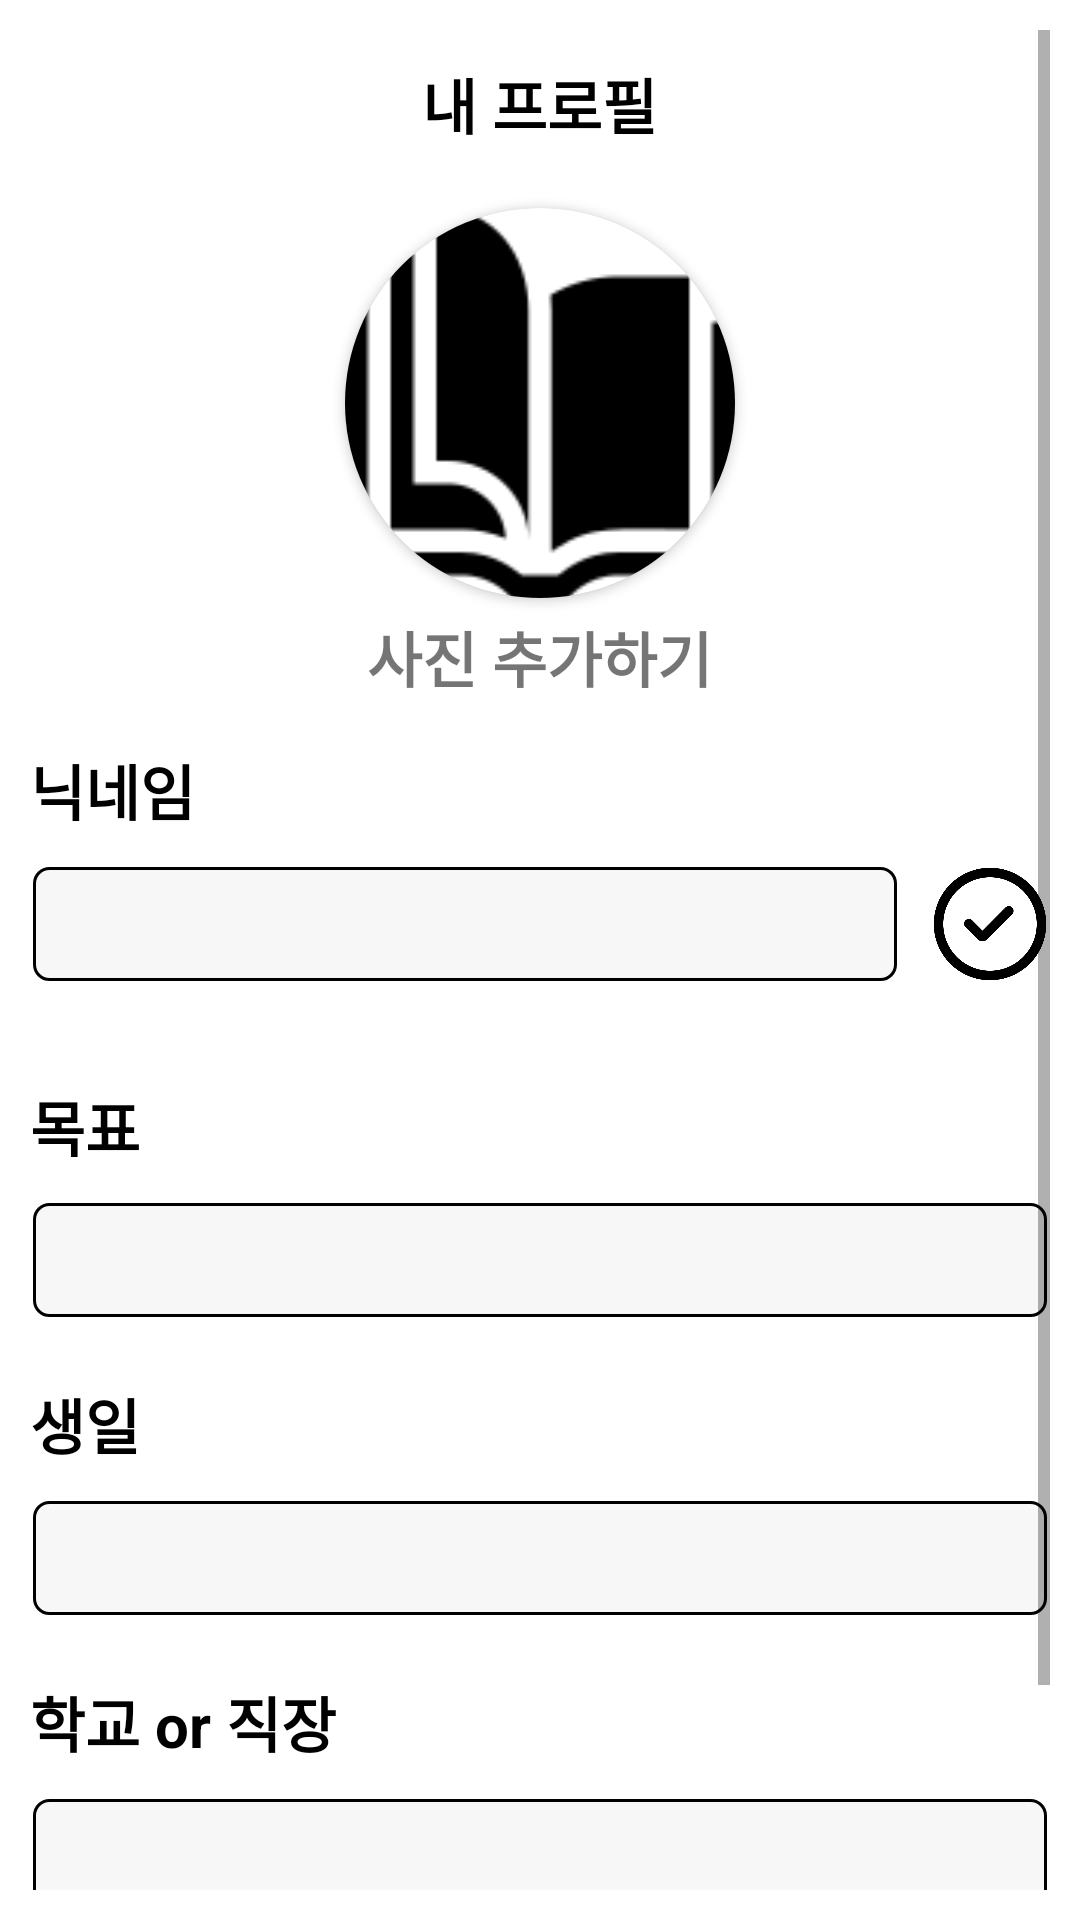

Point at icon controls on the screen. Image size 1080x1920, points as point (x, y).
complete: point (992, 924)
